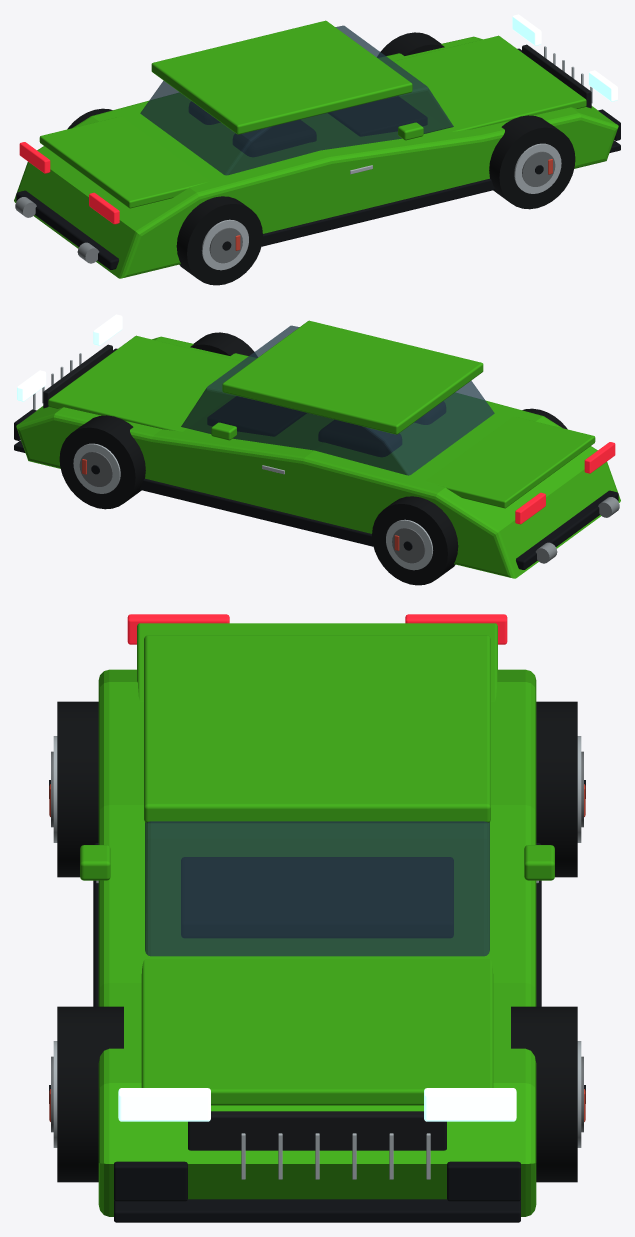
The model's file is chevy_corvette_zr1.glb.
3 views of the same model, one above another, from view 1: azimuth 30°, elevation 25°; view 2: azimuth 150°, elevation 25°; view 3: azimuth 270°, elevation 25° (orthographic). The views are drawn at different scales.
Parts seen in each view (by area): view 1: sculpted_body, roof, glasshouse, hood_center, rear_deck, front_right_wheel_tire, rear_right_wheel_tire, side_skirt_1, dashboard, seat_1, rear_diffuser, front_left_wheel_tire (+9 smaller); view 2: sculpted_body, roof, glasshouse, hood_center, rear_deck, front_left_wheel_tire, rear_left_wheel_tire, side_skirt_-1, dashboard, seat_-1, rear_diffuser, front_right_wheel_tire (+9 smaller); view 3: sculpted_body, roof, hood_center, glasshouse, dashboard, front_grille, front_splitter, front_left_wheel_tire, front_right_wheel_tire, rear_left_wheel_tire, rear_right_wheel_tire, rear_deck (+8 smaller).
Boxes of the visible parts, x1=… form: sculpted_body: x1=14, y1=36, x2=618, y2=278; roof: x1=151, y1=20, x2=412, y2=134; glasshouse: x1=140, y1=25, x2=453, y2=175; hood_center: x1=386, y1=35, x2=586, y2=131; rear_deck: x1=39, y1=116, x2=209, y2=208; front_right_wheel_tire: x1=489, y1=115, x2=575, y2=209; rear_right_wheel_tire: x1=176, y1=196, x2=262, y2=285; side_skirt_1: x1=261, y1=178, x2=495, y2=246; dashboard: x1=328, y1=96, x2=426, y2=135; seat_1: x1=233, y1=120, x2=315, y2=156; rear_diffuser: x1=16, y1=190, x2=118, y2=269; front_left_wheel_tire: x1=377, y1=32, x2=444, y2=57; sculpted_body: x1=16, y1=336, x2=620, y2=578; roof: x1=222, y1=320, x2=483, y2=434; glasshouse: x1=181, y1=325, x2=494, y2=475; hood_center: x1=48, y1=335, x2=248, y2=431; rear_deck: x1=425, y1=416, x2=595, y2=508; front_left_wheel_tire: x1=59, y1=415, x2=145, y2=509; rear_left_wheel_tire: x1=372, y1=496, x2=458, y2=585; side_skirt_-1: x1=139, y1=478, x2=373, y2=546; dashboard: x1=208, y1=396, x2=306, y2=435; seat_-1: x1=319, y1=420, x2=401, y2=456; rear_diffuser: x1=516, y1=490, x2=618, y2=569; front_right_wheel_tire: x1=190, y1=332, x2=257, y2=357; sculpted_body: x1=98, y1=669, x2=536, y2=1216; roof: x1=144, y1=635, x2=490, y2=822; hood_center: x1=141, y1=959, x2=493, y2=1105; glasshouse: x1=145, y1=821, x2=489, y2=956; dashboard: x1=181, y1=857, x2=453, y2=937; front_grille: x1=188, y1=1111, x2=446, y2=1150; front_splitter: x1=114, y1=1199, x2=520, y2=1222; front_left_wheel_tire: x1=511, y1=1006, x2=577, y2=1182; front_right_wheel_tire: x1=57, y1=1006, x2=123, y2=1182; rear_left_wheel_tire: x1=536, y1=701, x2=577, y2=877; rear_right_wheel_tire: x1=57, y1=701, x2=98, y2=877; rear_deck: x1=137, y1=623, x2=497, y2=701.
Bounding box in the file's own units: 5.09 × 1.25 × 2.26.
